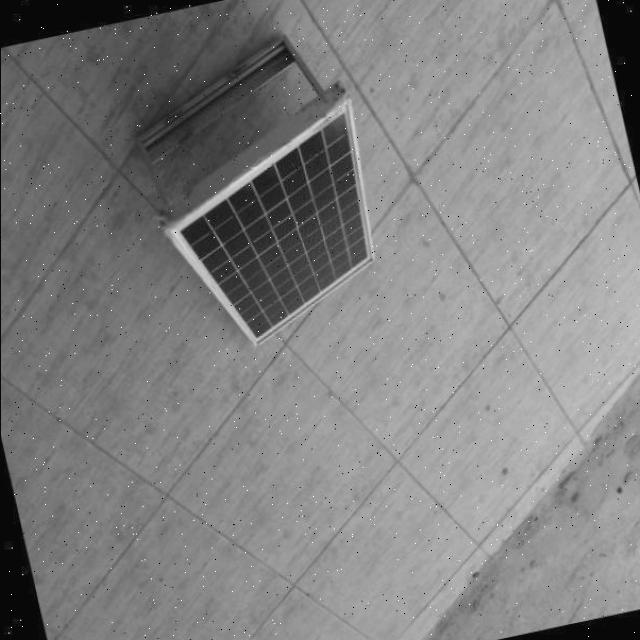Normal Solar Panel: (141, 95, 401, 362)
